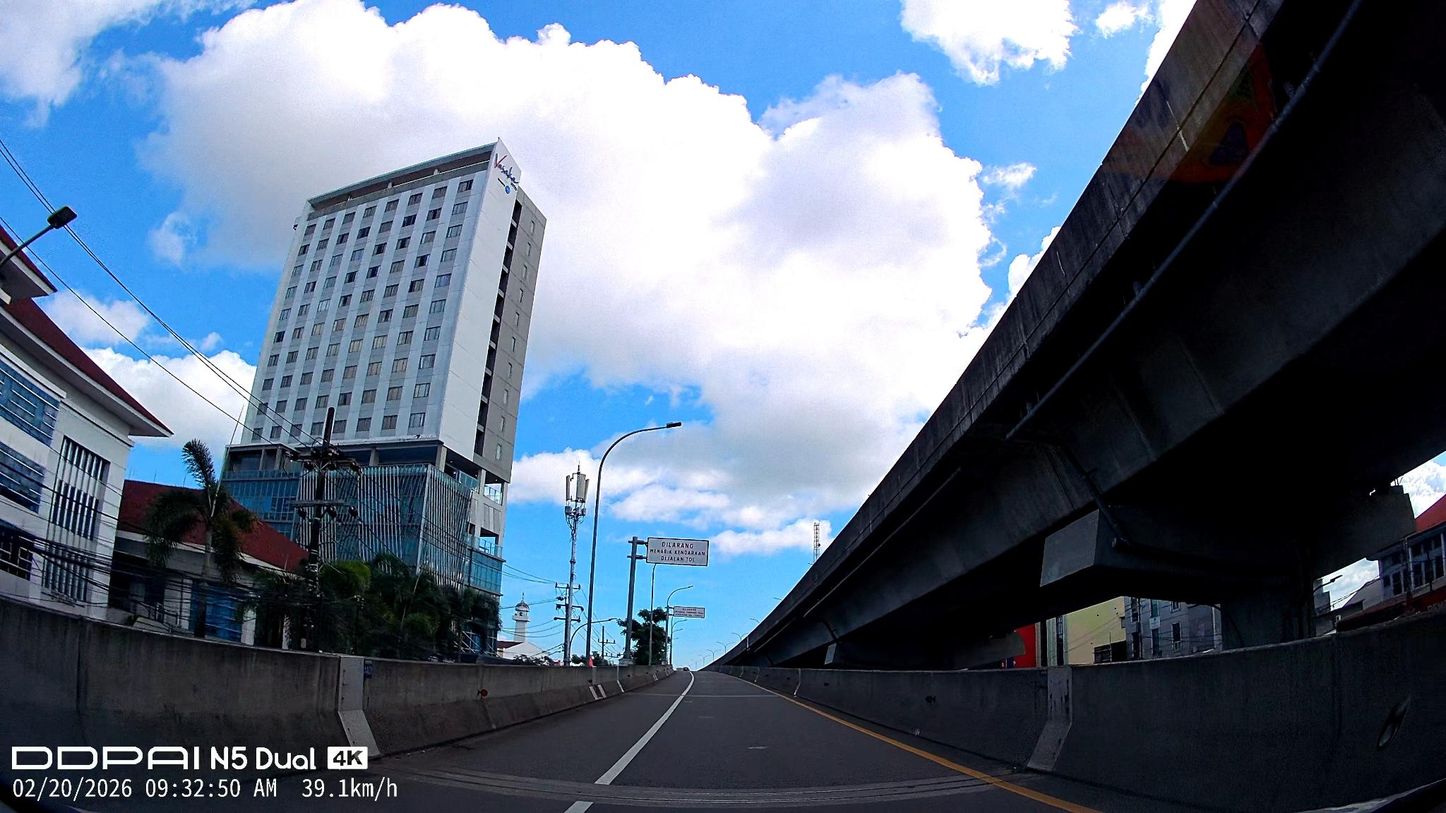rambu_teks: (647, 537, 709, 566)
